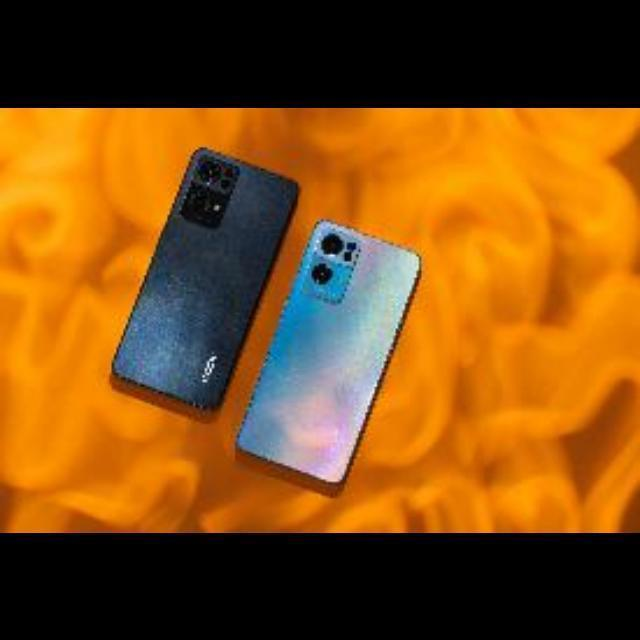phone: (230, 201, 427, 528)
